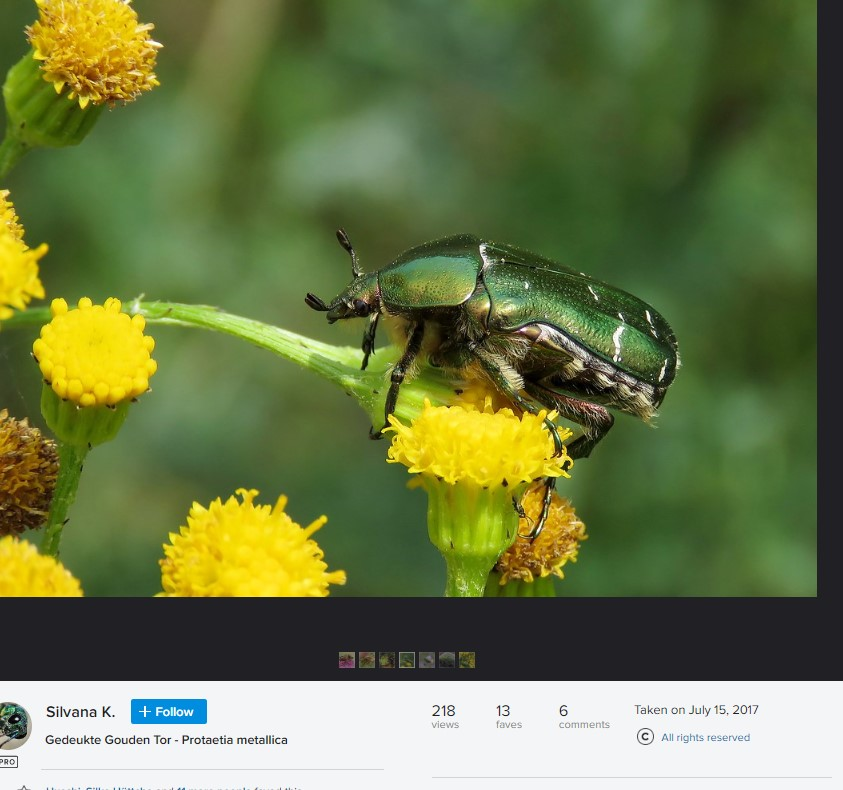Protaetia_metallica: (301, 218, 685, 548)
